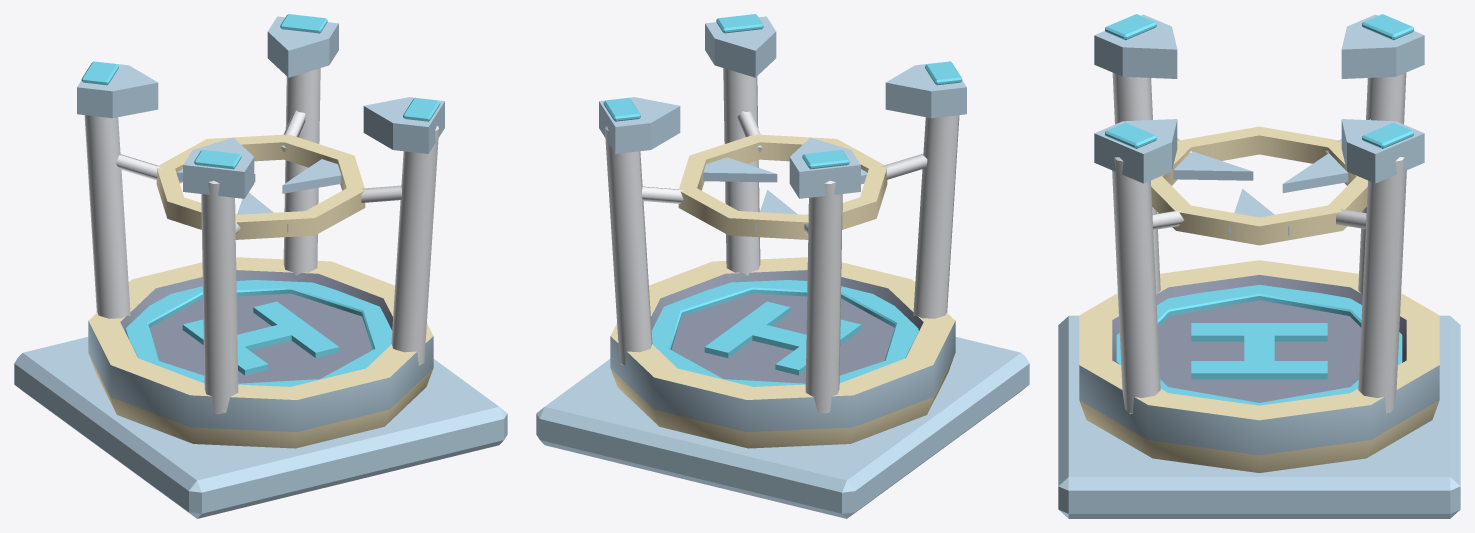
File: R4X_FlyingDroneDeployer_LOD1.glb
3 renders of one model, left to right at view 1: azimuth 30°, elevation 25°; view 2: azimuth 150°, elevation 25°; view 3: azimuth 270°, elevation 25°, orthographic. The views are drawn at different scales.
Visible parts, largest first — view 1: R4X_FlyingDroneDeployer_LOD1; view 2: R4X_FlyingDroneDeployer_LOD1; view 3: R4X_FlyingDroneDeployer_LOD1.
Part boxes in pixels (x1,y1,x2,y2): R4X_FlyingDroneDeployer_LOD1: (14,14,507,518); R4X_FlyingDroneDeployer_LOD1: (536,14,1029,518); R4X_FlyingDroneDeployer_LOD1: (1058,14,1460,518).
Size of the model in its own units: 0.52 by 0.513 by 0.52.
